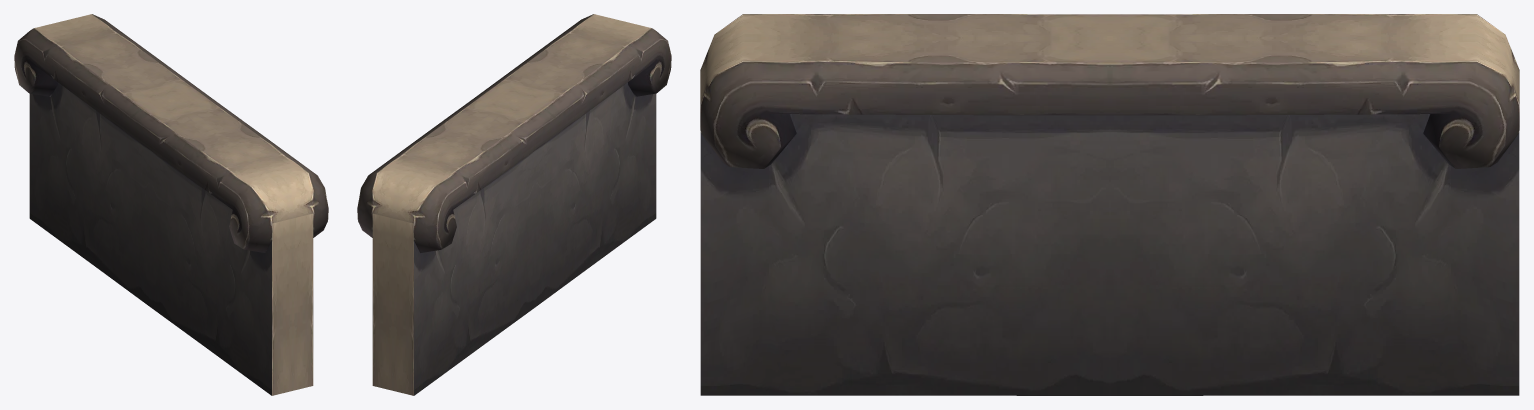
3 views of the same model, side by side, from view 1: azimuth 30°, elevation 25°; view 2: azimuth 150°, elevation 25°; view 3: azimuth 270°, elevation 25° (orthographic). The views are drawn at different scales.
Size of the model in its own units: 0.787 by 1.91 by 4.15.
Materials: 1 (1 with a texture image).
